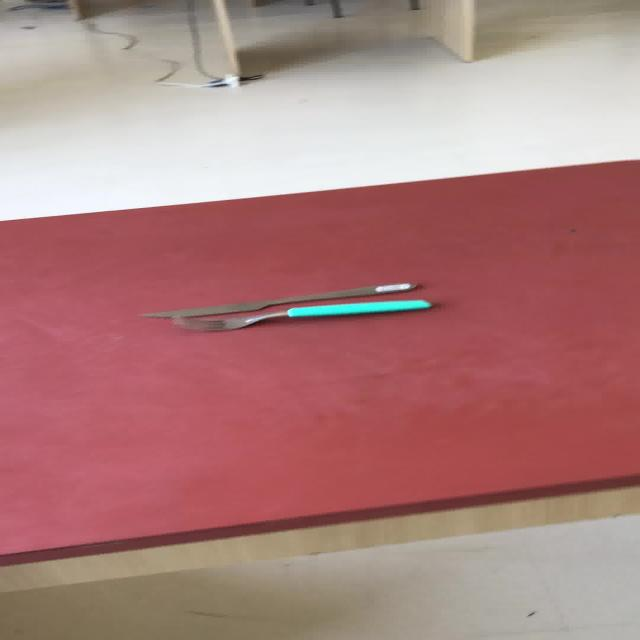fork: (170, 298, 433, 332)
knife fork: (139, 280, 418, 318)
